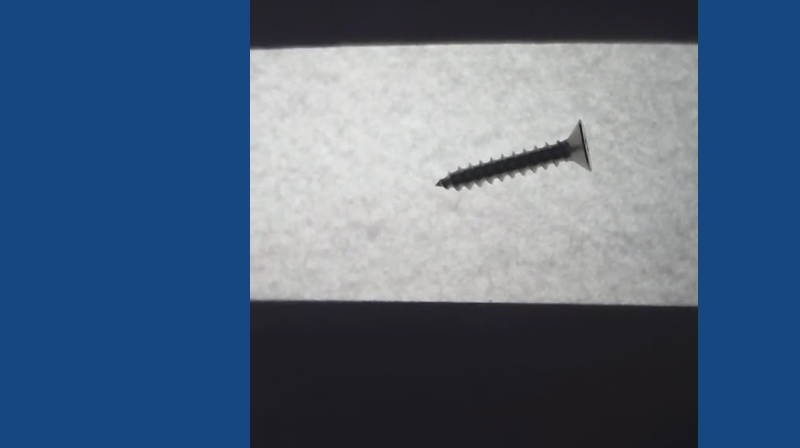S001: (430, 114, 594, 192)
